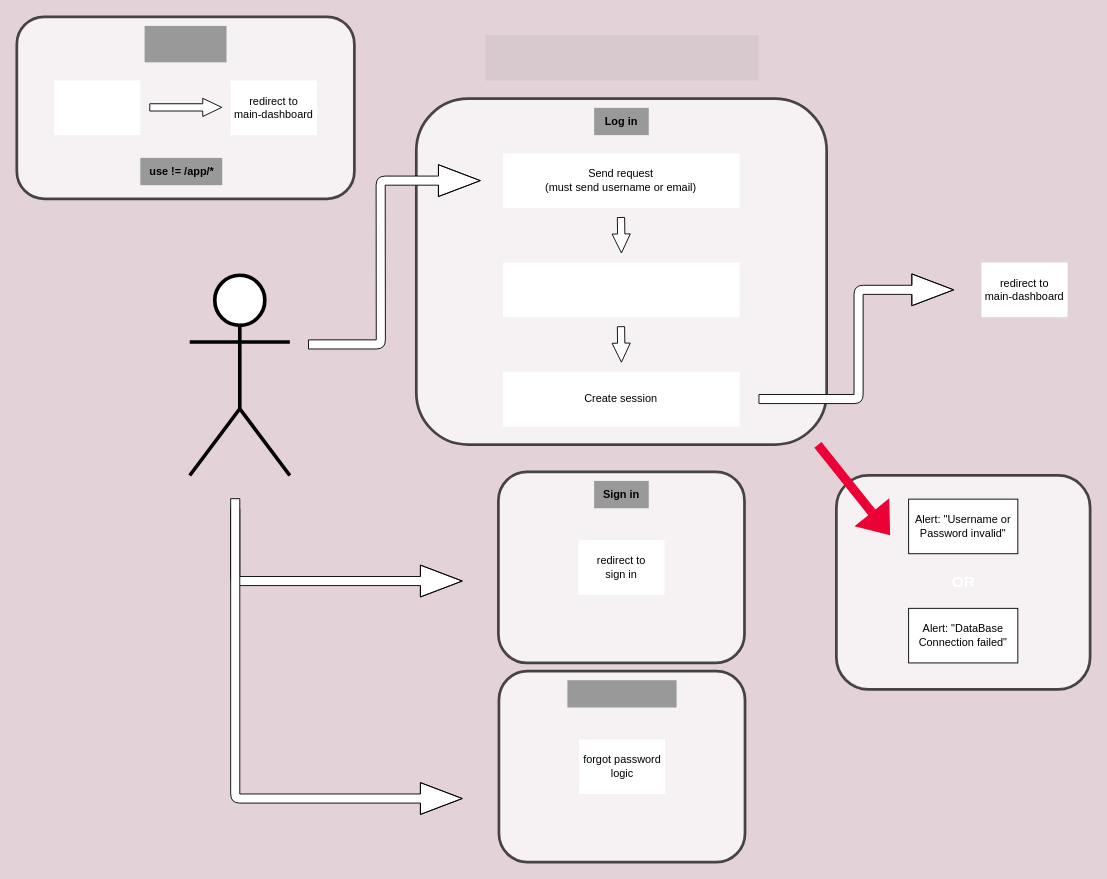
This 1107x879 diagram has some shape labels left out. Here are the shapes that lost their labels. From the top down, the box of each, then its label:
(144, 25, 226, 62): Security LoginFilter
(485, 35, 758, 80): Login Functionality
(54, 80, 140, 135): if get Session
(503, 262, 739, 317): Encrypt password and auth with DB
(187, 273, 291, 477): Actor
(567, 680, 676, 707): Forgot Password
